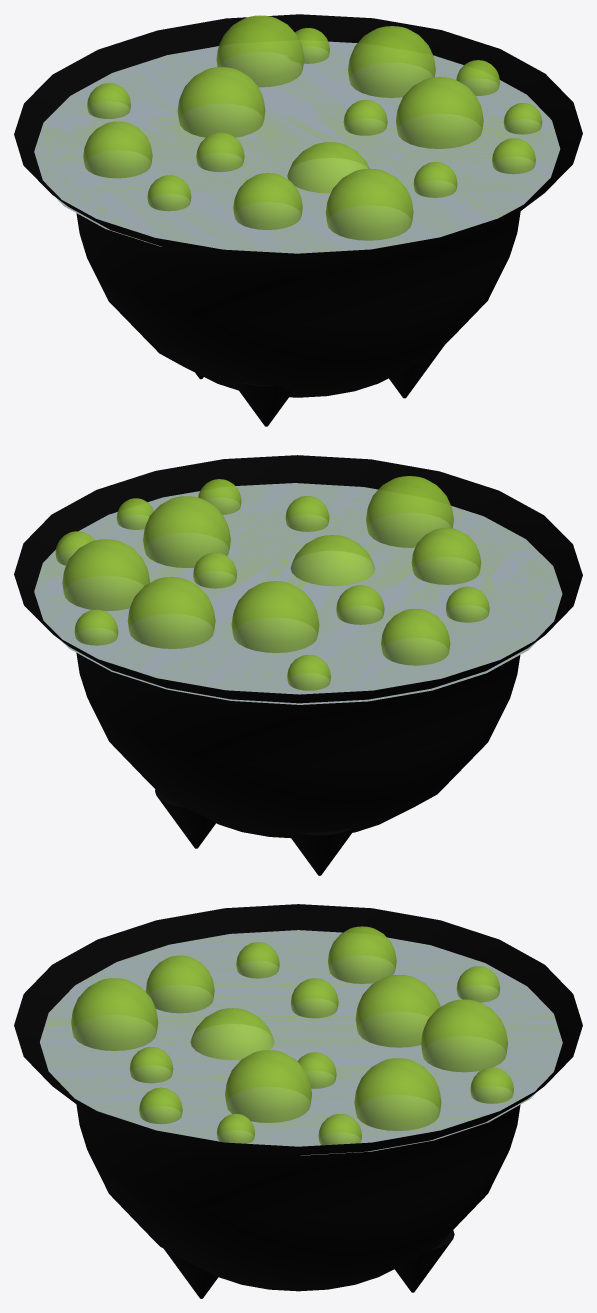
3 renders of one model, top to bottom at view 1: azimuth 30°, elevation 25°; view 2: azimuth 150°, elevation 25°; view 3: azimuth 270°, elevation 25°, orthographic.
Visible parts, largest first — view 1: group_2, group_8, group_3 (×17), group_4, group_6; view 2: group_8, group_2, group_3 (×17), group_5, group_7; view 3: group_8, group_2, group_3 (×17), group_7, group_6.
Boxes of the visible parts, x1,y1,x2,y2 form: group_2: (34,41,560,253); group_8: (14,14,582,397); group_3 (×17): (83,15,542,240); group_4: (234,381,291,426); group_6: (389,345,444,398); group_8: (14,455,582,838); group_2: (34,483,562,704); group_3 (×17): (55,476,489,690); group_5: (291,828,354,875); group_7: (155,789,215,848); group_8: (14,904,582,1291); group_2: (40,930,562,1155); group_3 (×17): (71,926,513,1145); group_7: (394,1230,454,1292); group_6: (164,1249,218,1298).
Size of the model in its own units: 60.55 by 60.02 by 35.32.
